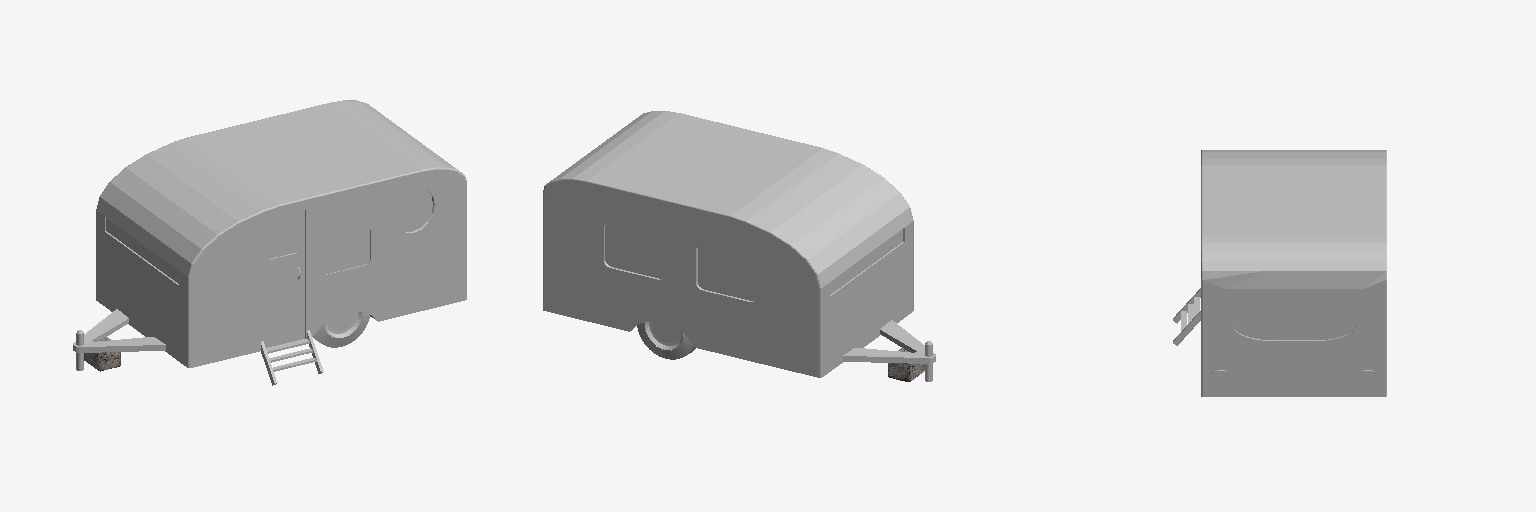
3 renders of one model, left to right at view 1: azimuth 30°, elevation 25°; view 2: azimuth 150°, elevation 25°; view 3: azimuth 270°, elevation 25°, orthographic.
Visible parts, largest first — view 1: top_and_stairs_Circle.006, trailer_sides_Circle.004, windows_Circle.000, tyres_and_support_Cylinder.001, rock_Cylinder.004; view 2: top_and_stairs_Circle.006, trailer_sides_Circle.004, windows_Circle.000, tyres_and_support_Cylinder.001, rock_Cylinder.004; view 3: top_and_stairs_Circle.006, windows_Circle.000.
Part boxes in pixels (x1,y1,x2,y2): top_and_stairs_Circle.006: (96,100,466,385); trailer_sides_Circle.004: (128,141,466,367); windows_Circle.000: (105,187,434,284); tyres_and_support_Cylinder.001: (73,309,374,370); rock_Cylinder.004: (84,337,120,371); top_and_stairs_Circle.006: (547,111,913,377); trailer_sides_Circle.004: (543,157,869,377); windows_Circle.000: (604,223,904,301); tyres_and_support_Cylinder.001: (633,320,935,381); rock_Cylinder.004: (888,348,924,381); top_and_stairs_Circle.006: (1173,150,1385,396); windows_Circle.000: (1233,296,1355,340).
Size of the model in its own units: 41.06 by 18.83 by 21.98.
Materials: 5 (1 with a texture image).